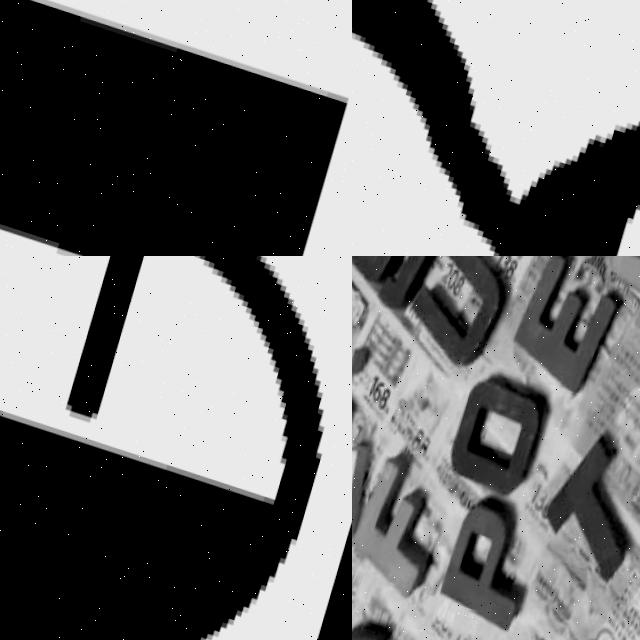2: (352, 0, 640, 256)
E: (504, 256, 630, 397)
F: (352, 447, 453, 591)
G: (0, 256, 352, 640)
O: (444, 363, 557, 498)
P: (440, 488, 543, 629)
S: (352, 256, 449, 301)
T: (0, 0, 352, 256), (536, 413, 640, 572)
U: (401, 256, 517, 366)
Z: (352, 423, 379, 560)
